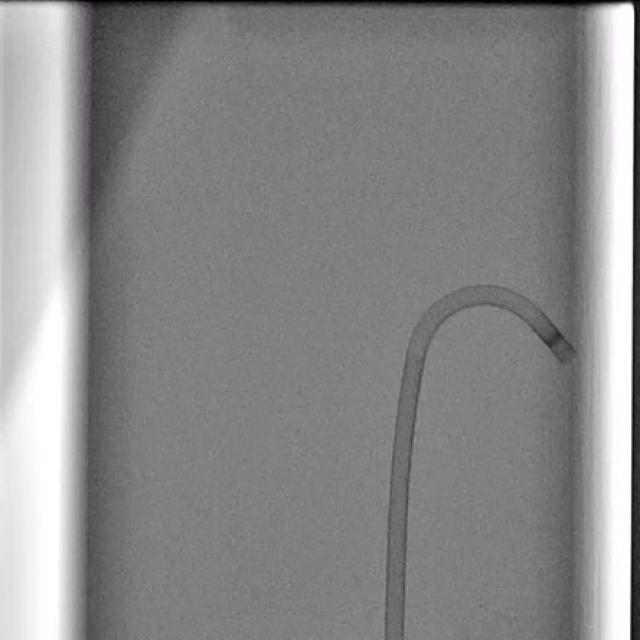bend: (405, 342, 432, 357)
entry: (384, 634, 404, 640)
marker: (546, 331, 563, 348)
tip: (562, 351, 577, 366)
